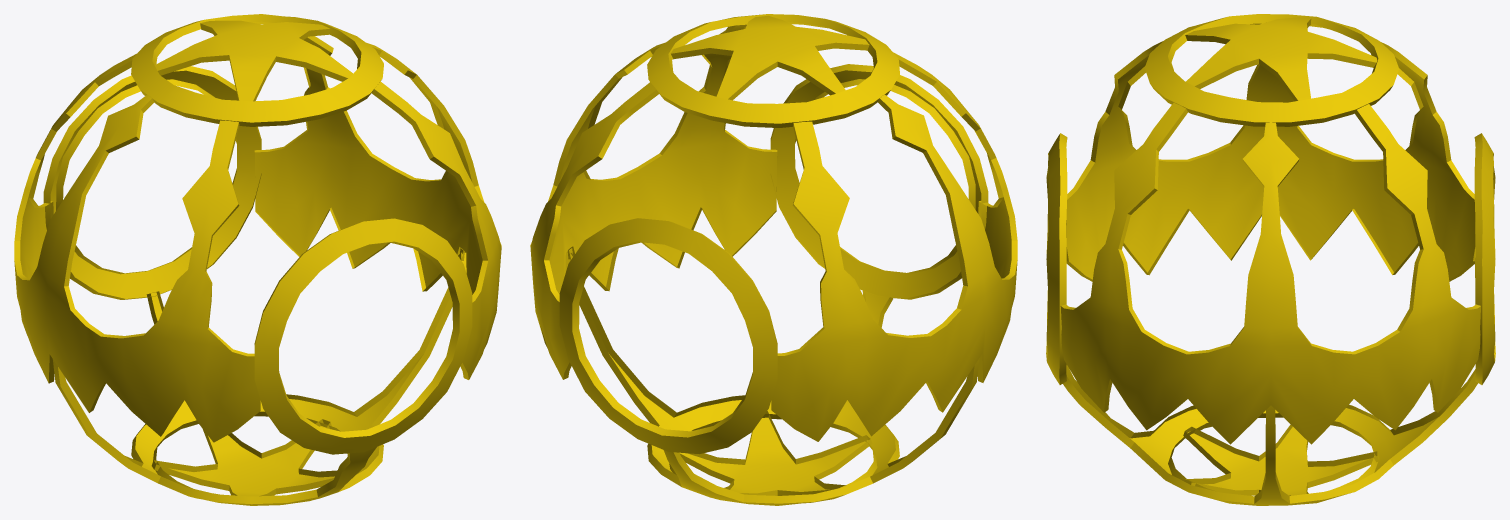
The model's file is Armour ball.fbx.
3 renders of one model, left to right at view 1: azimuth 30°, elevation 25°; view 2: azimuth 150°, elevation 25°; view 3: azimuth 270°, elevation 25°, orthographic.
Visible parts, largest first — view 1: Armour ball; view 2: Armour ball; view 3: Armour ball.
Part boxes in pixels (bbox=[...]): Armour ball: bbox=[14, 14, 501, 505]; Armour ball: bbox=[530, 14, 1017, 505]; Armour ball: bbox=[1046, 14, 1495, 505].
Bounding box in the file's own units: 132 × 131 × 122.
